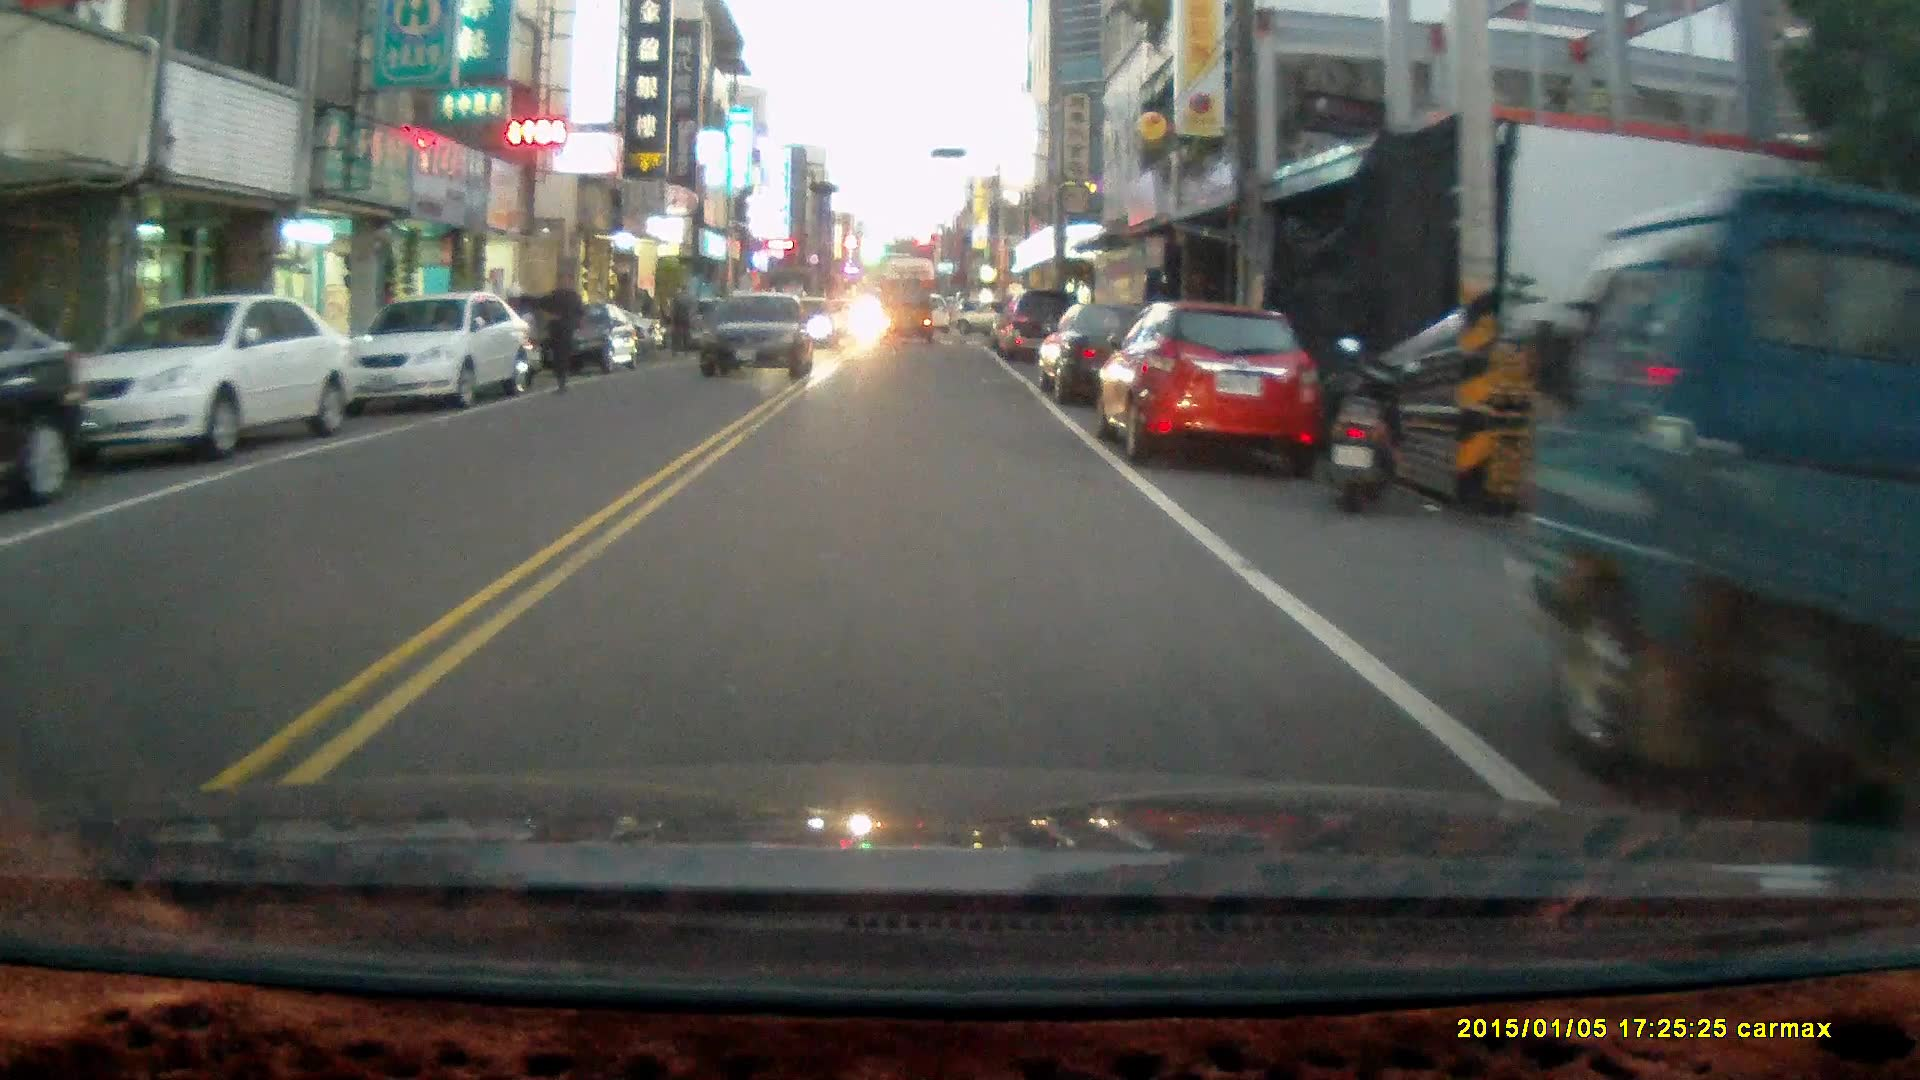pedestrian: (536, 269, 582, 393), (666, 286, 692, 355)
vehicle: (1516, 184, 1920, 862), (57, 295, 362, 456), (1098, 303, 1324, 477), (345, 293, 534, 412), (1032, 298, 1214, 406), (697, 286, 818, 381), (990, 285, 1091, 365), (540, 299, 636, 377), (875, 277, 937, 345)
